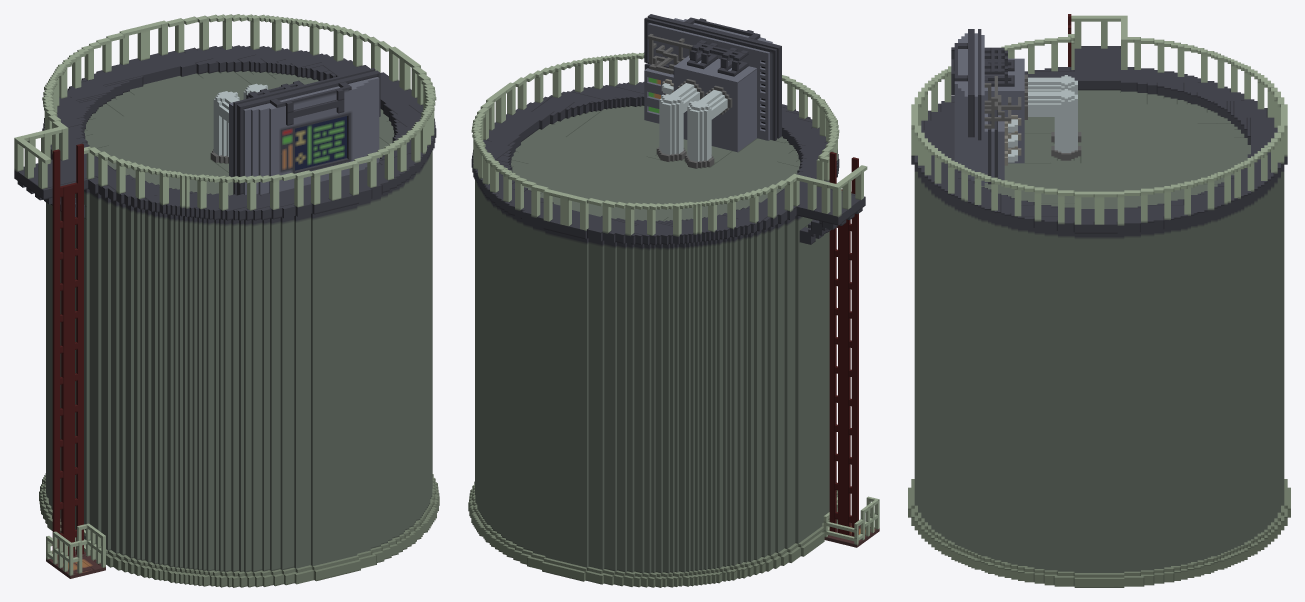
Rendered from silo_raf_ciecz.dae.
The picture shows the model from 3 angles, left to right: view 1: azimuth 30°, elevation 25°; view 2: azimuth 150°, elevation 25°; view 3: azimuth 270°, elevation 25°; orthographic projection. The views are drawn at different scales.
Visible parts, largest first — view 1: Content; view 2: Content; view 3: Content.
Boxes of the visible parts, <box> form: Content: <box>14,14,439,587</box>; Content: <box>468,14,879,587</box>; Content: <box>908,14,1290,587</box>.
Size of the model in its own units: 128 by 148 by 115.
1 material, 1 textured.
